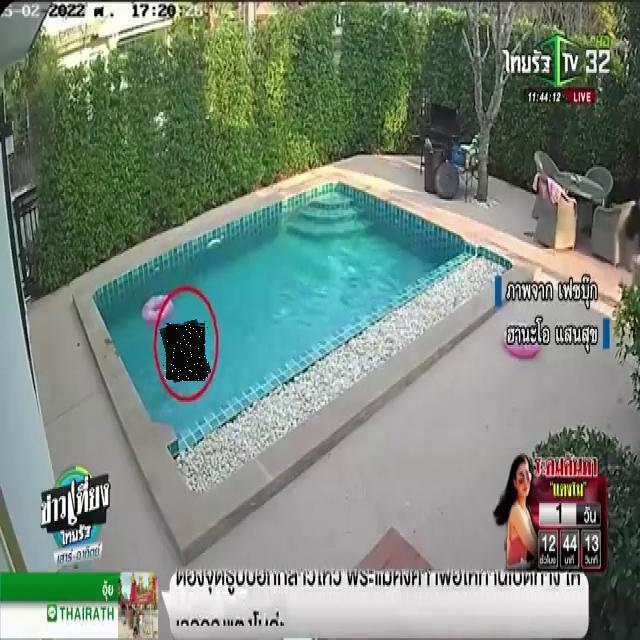Out of Water: (163, 321, 208, 381)
